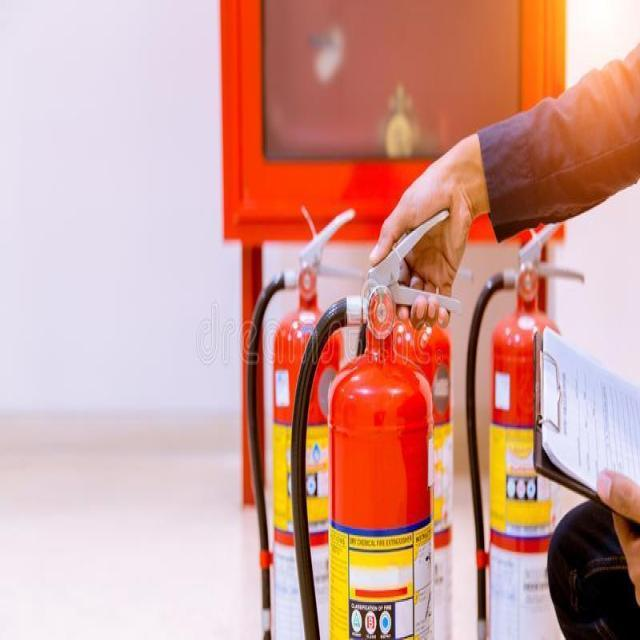fire_extinguisher: (286, 201, 467, 638), (460, 190, 590, 639), (240, 192, 370, 638)
